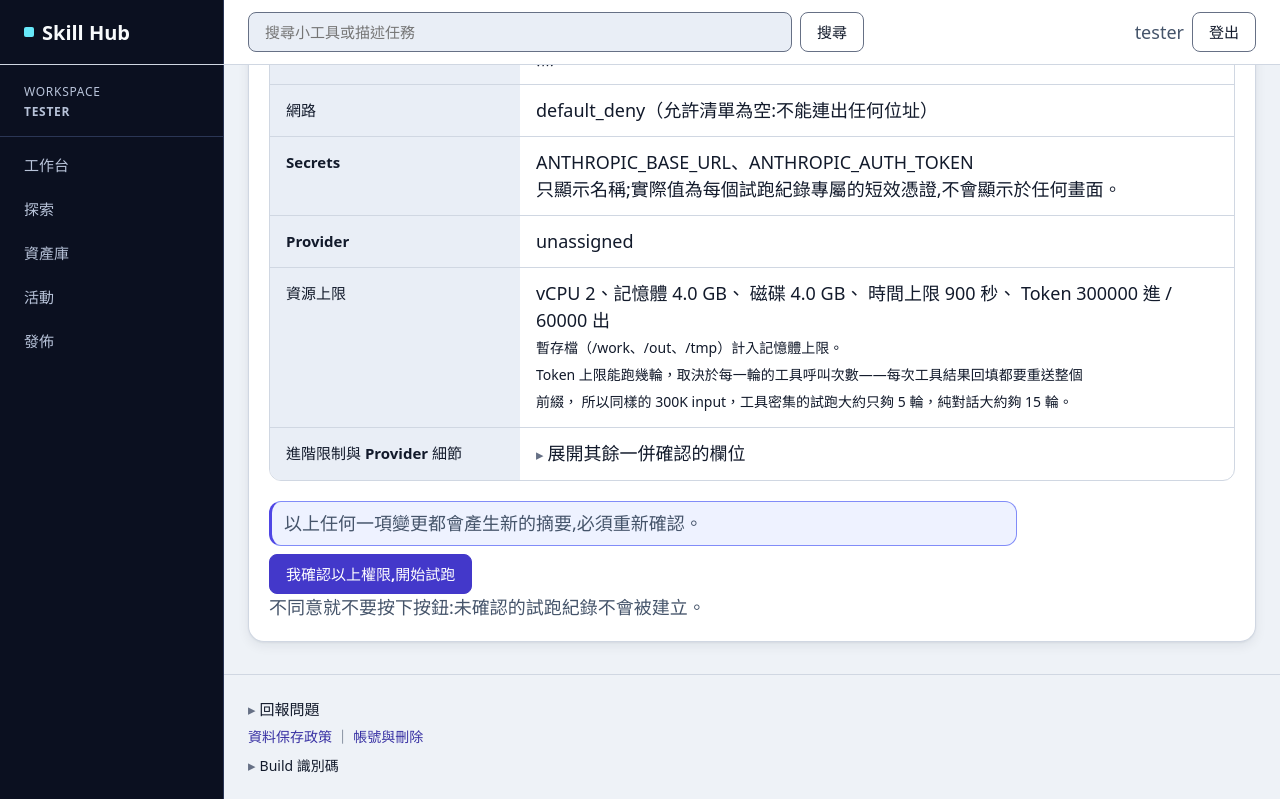
SEC-002 gate B: an exhausted allowance is not reported as a permission change
The width and height of the screenshot is (1280, 799).
(page scrolled)
Step 1. Click the button "我確認以上權限,開始試跑" → (371, 574), box x1=269 y1=554 x2=472 y2=594
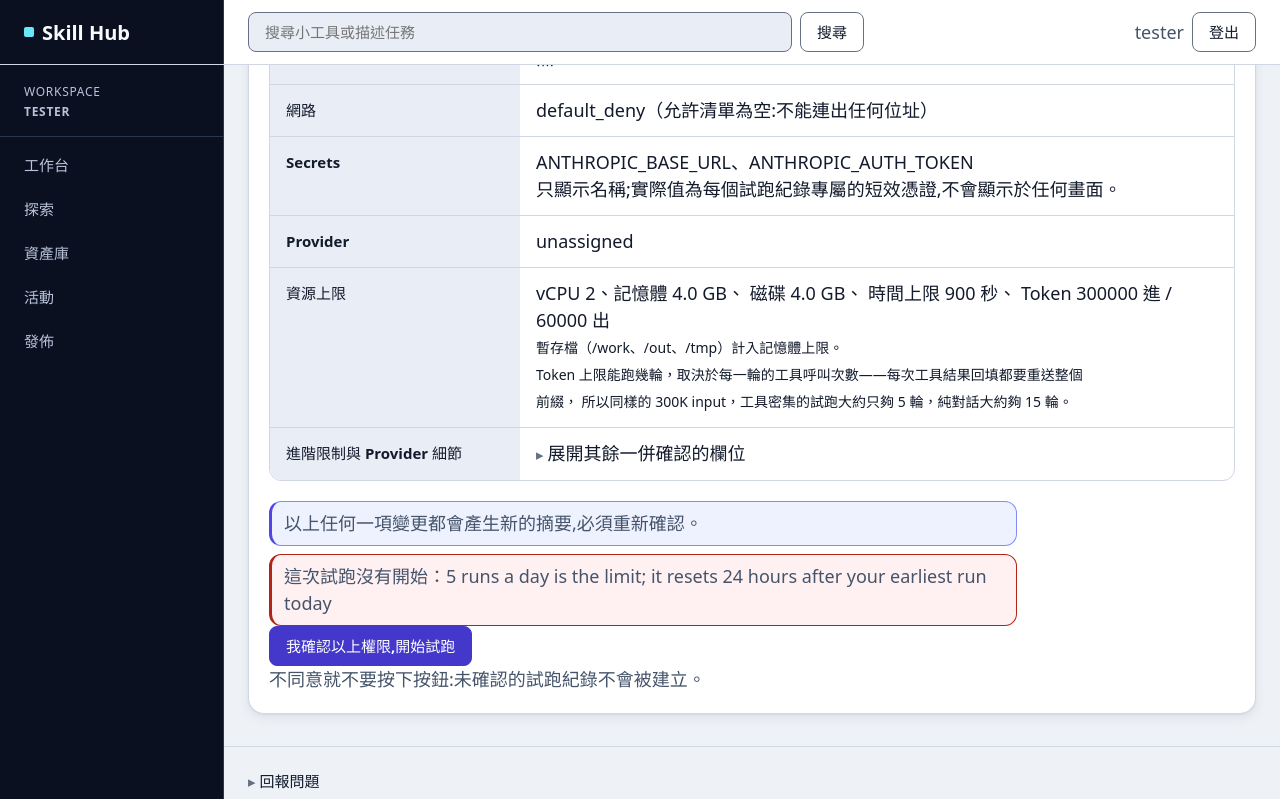
Expected: the text "resets 24 hours after" is shown, x1=284 y1=564 x2=987 y2=614
